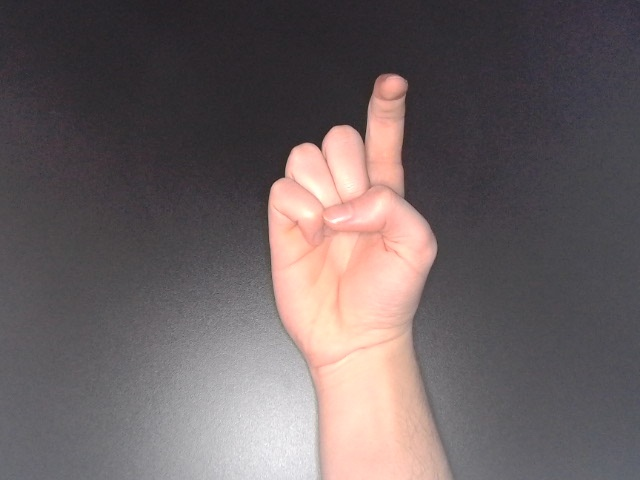x: (259, 68, 442, 386)
